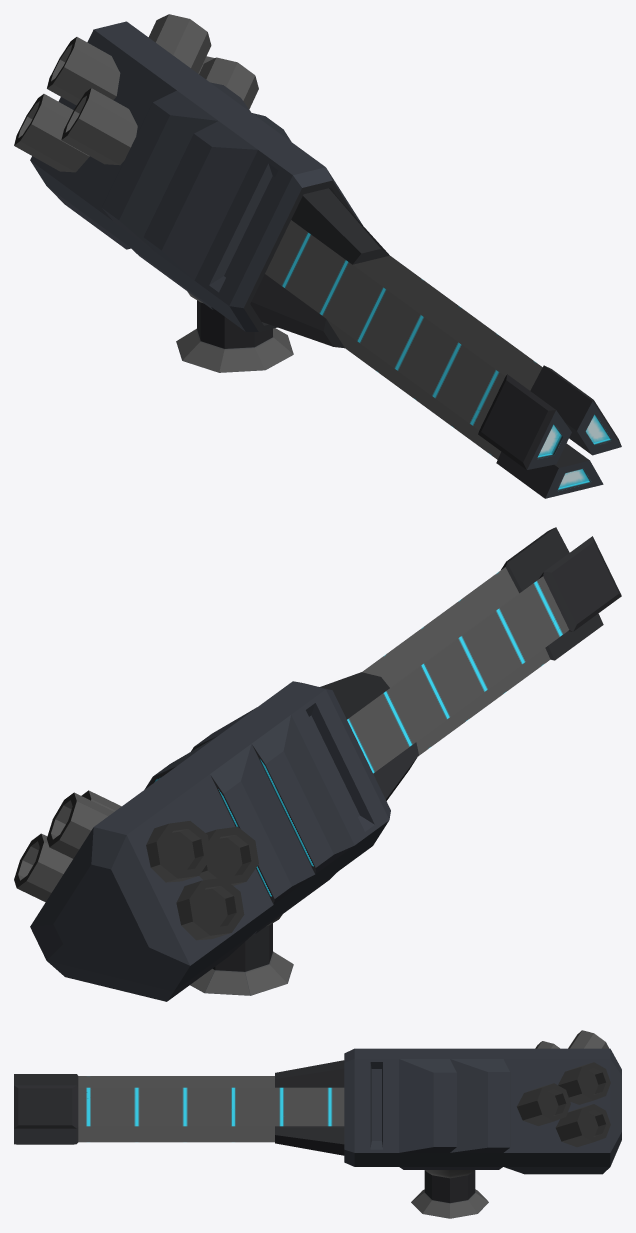
The model's file is Weapon_Gauss.fbx.
3 views of the same model, one above another, from view 1: azimuth 30°, elevation 25°; view 2: azimuth 150°, elevation 25°; view 3: azimuth 270°, elevation 25° (orthographic). The views are drawn at different scales.
Parts seen in each view (by area): view 1: Weapon_Gauss:Weapon_Gauss1; view 2: Weapon_Gauss:Weapon_Gauss1; view 3: Weapon_Gauss:Weapon_Gauss1.
Part boxes in pixels (<box>): Weapon_Gauss:Weapon_Gauss1: <box>14,14,621,498</box>; Weapon_Gauss:Weapon_Gauss1: <box>14,527,621,1001</box>; Weapon_Gauss:Weapon_Gauss1: <box>14,1030,621,1218</box>.
Size of the model in its own units: 222 by 228 by 812.
